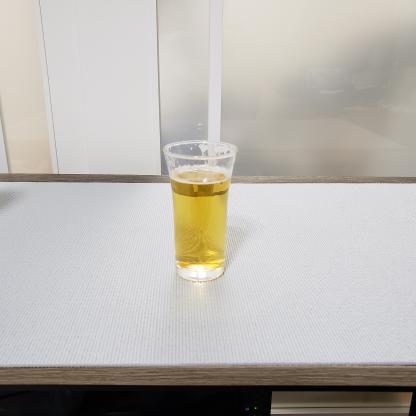glass: (157, 134, 254, 290)
